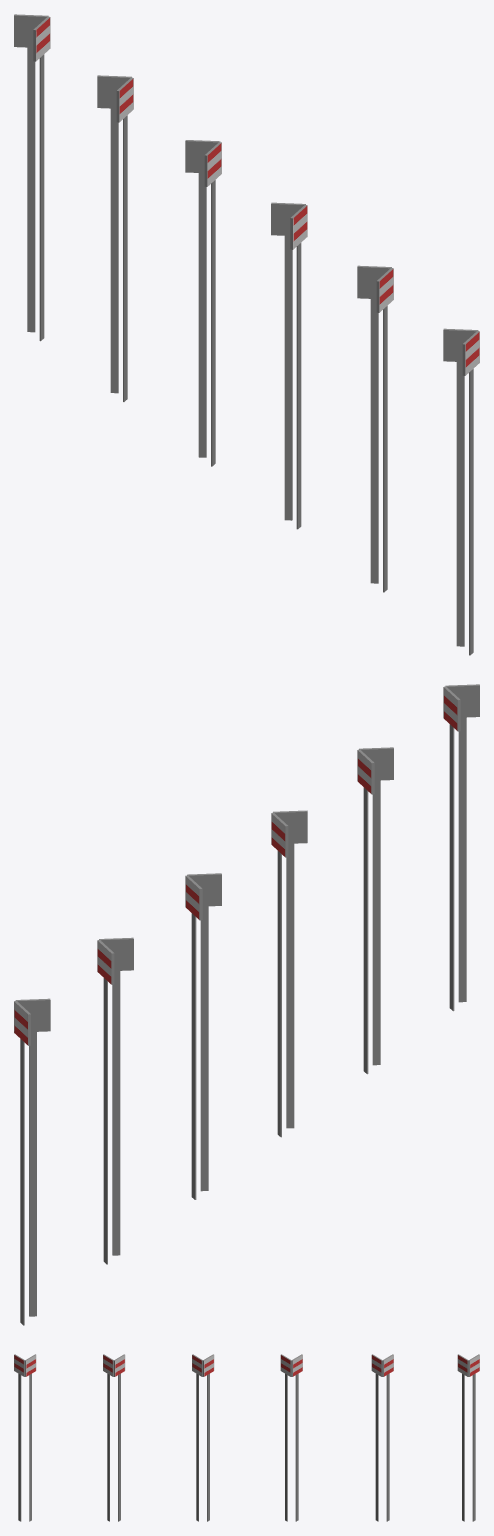
Rendered from road-signs.FBX.
The picture shows the model from 3 angles, top to bottom: view 1: azimuth 30°, elevation 25°; view 2: azimuth 150°, elevation 25°; view 3: azimuth 270°, elevation 25°; orthographic projection. The views are drawn at different scales.
Visible parts, largest first — view 1: Box10; view 2: Box10; view 3: Box10.
Boxes of the visible parts, <box> form: Box10: <box>14,14,479,655</box>; Box10: <box>14,684,479,1325</box>; Box10: <box>14,1354,479,1521</box>.
Bounding box in the file's own units: 17.35 × 201 × 520.
